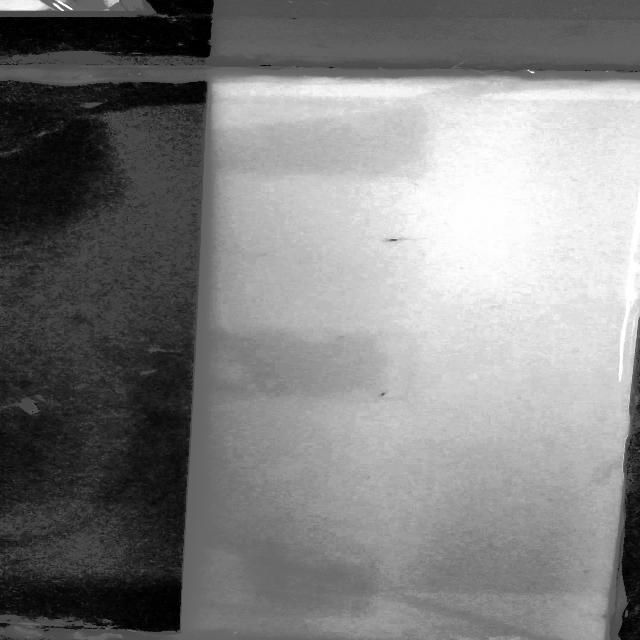shrimp: (368, 380, 396, 404), (374, 233, 428, 244)
